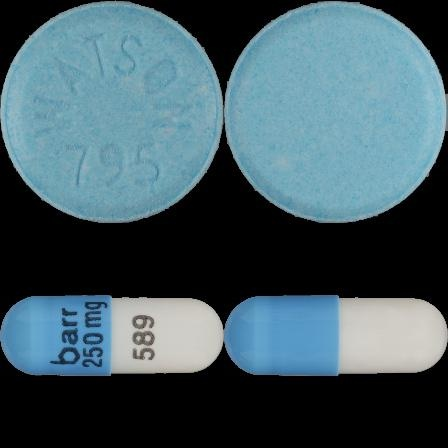53808-0234: (0, 0, 224, 224)
